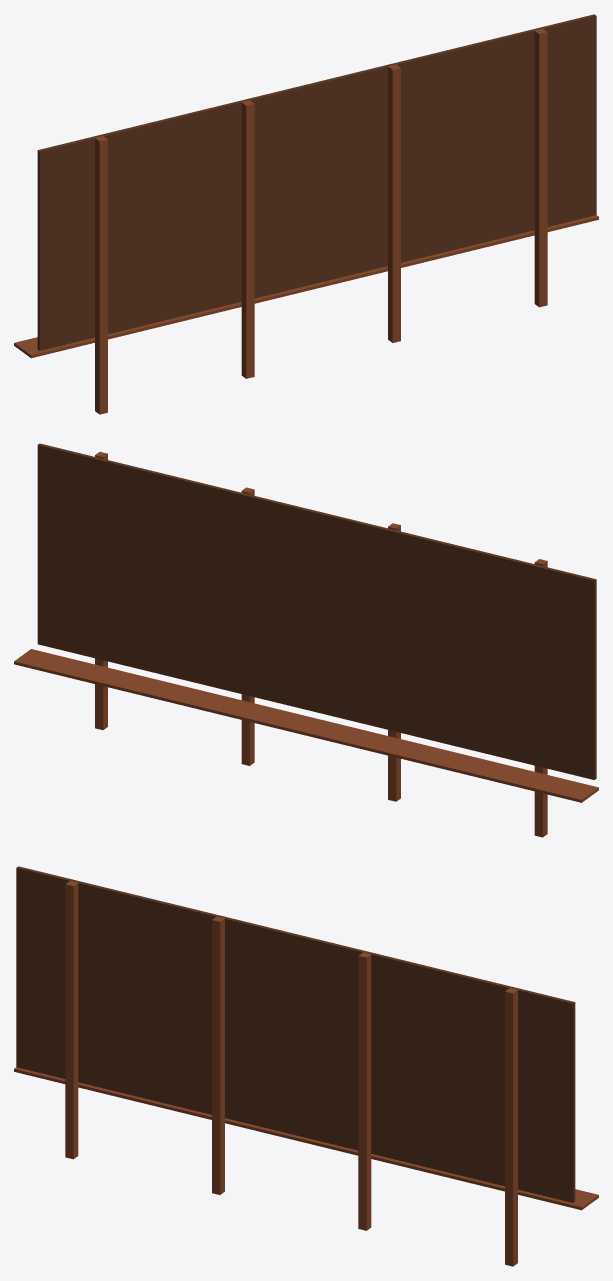
File: billboard_roof_a_lod1.glb
The picture shows the model from 3 angles, top to bottom: view 1: azimuth 30°, elevation 25°; view 2: azimuth 150°, elevation 25°; view 3: azimuth 330°, elevation 25°; orthographic projection.
Visible parts, largest first — view 1: billboard_roof_a_lod1; view 2: billboard_roof_a_lod1; view 3: billboard_roof_a_lod1.
Boxes of the visible parts, x1,y1,x2,y2 form: billboard_roof_a_lod1: [14, 14, 598, 414]; billboard_roof_a_lod1: [14, 443, 598, 837]; billboard_roof_a_lod1: [14, 866, 598, 1266].
Bounding box in the file's own units: 12.4 × 5.7 × 0.975.
Materials: 2 (2 with a texture image).
